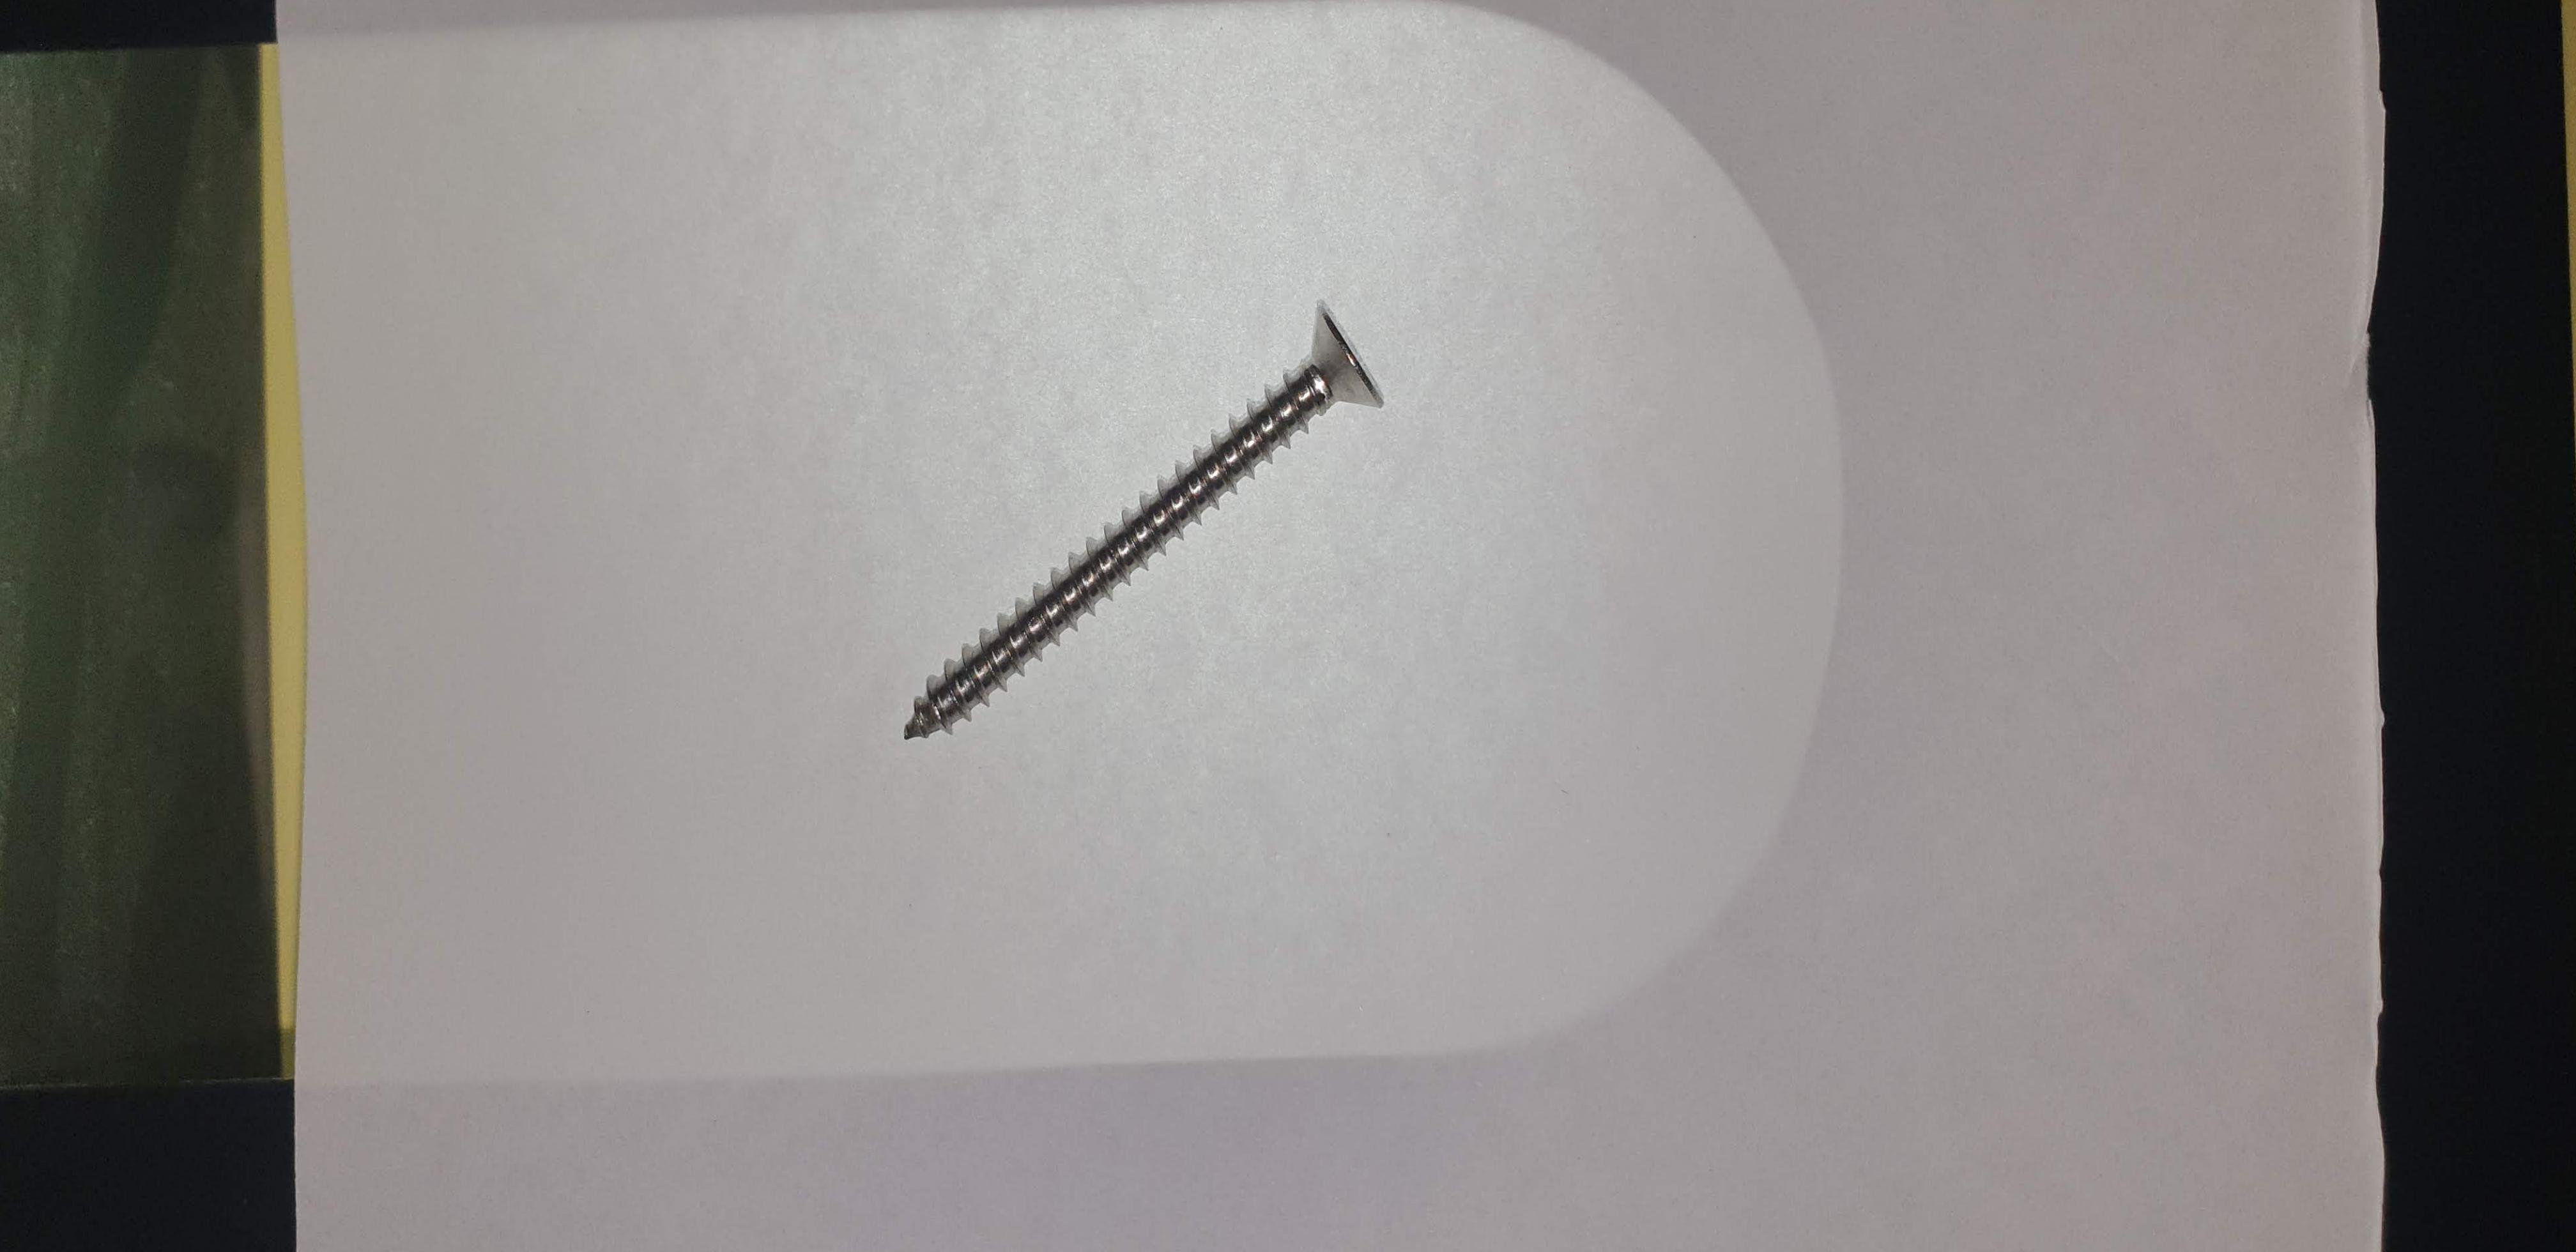fastener: (775, 268, 1539, 807)
